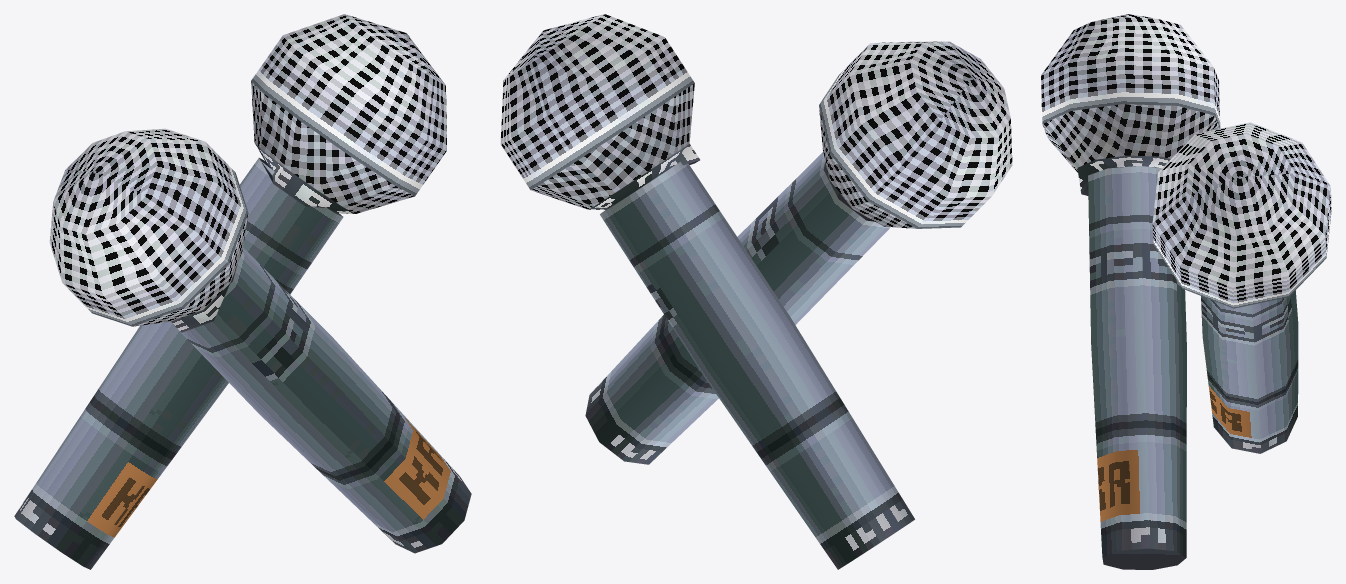
Rendered from ps2_save-icons_karaokerevolution.glb.
3 views of the same model, side by side, from view 1: azimuth 30°, elevation 25°; view 2: azimuth 150°, elevation 25°; view 3: azimuth 270°, elevation 25° (orthographic). The views are drawn at different scales.
Parts seen in each view (by area): view 1: kara.icn; view 2: kara.icn; view 3: kara.icn.
Boxes of the visible parts, <box> form: kara.icn: <box>14,14,471,569</box>; kara.icn: <box>500,14,1012,569</box>; kara.icn: <box>1041,14,1331,569</box>.
Size of the model in its own units: 4.3 by 4.59 by 2.75.
Materials: 1 (1 with a texture image).
